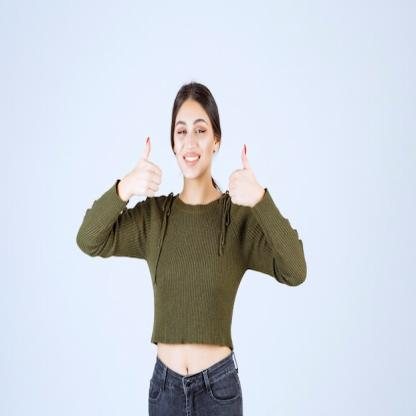thumb_up: (126, 135, 163, 199), (226, 142, 258, 210)
